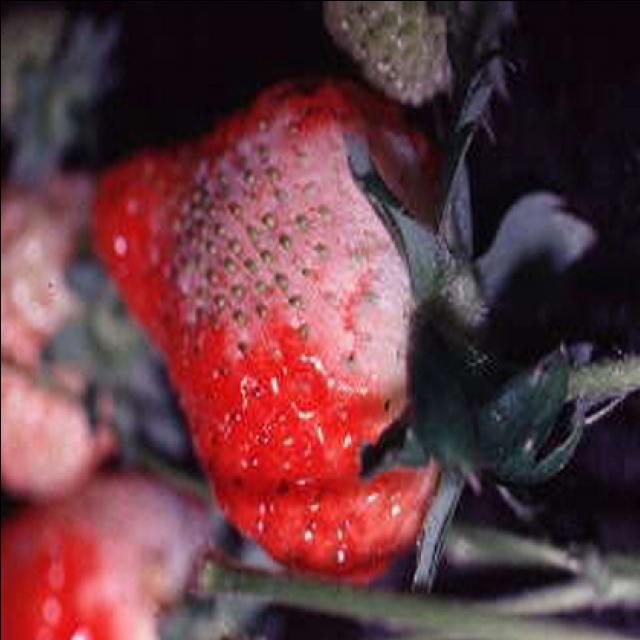Powdery Mildew Fruit: (85, 77, 476, 586), (318, 2, 461, 105)
